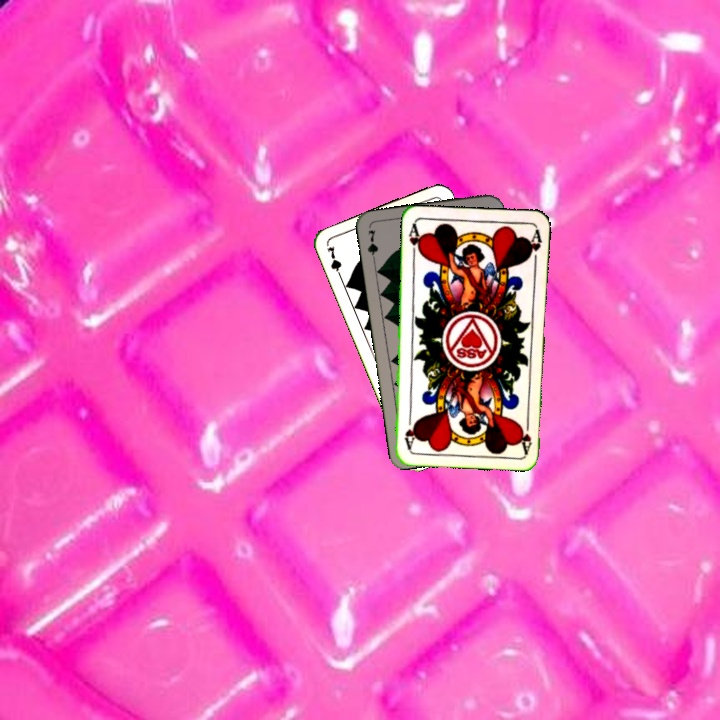G7: (323, 241, 345, 282), (363, 226, 381, 266)
HA: (404, 220, 424, 261), (517, 414, 534, 454)
